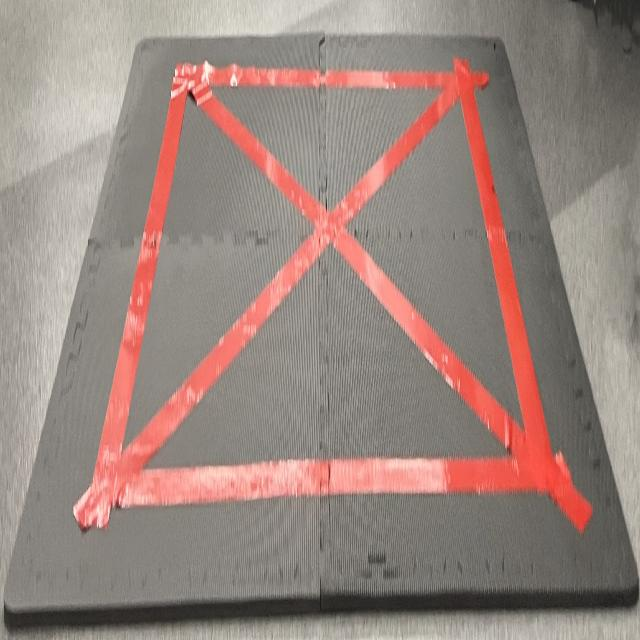landingPads: (4, 33, 637, 622)
